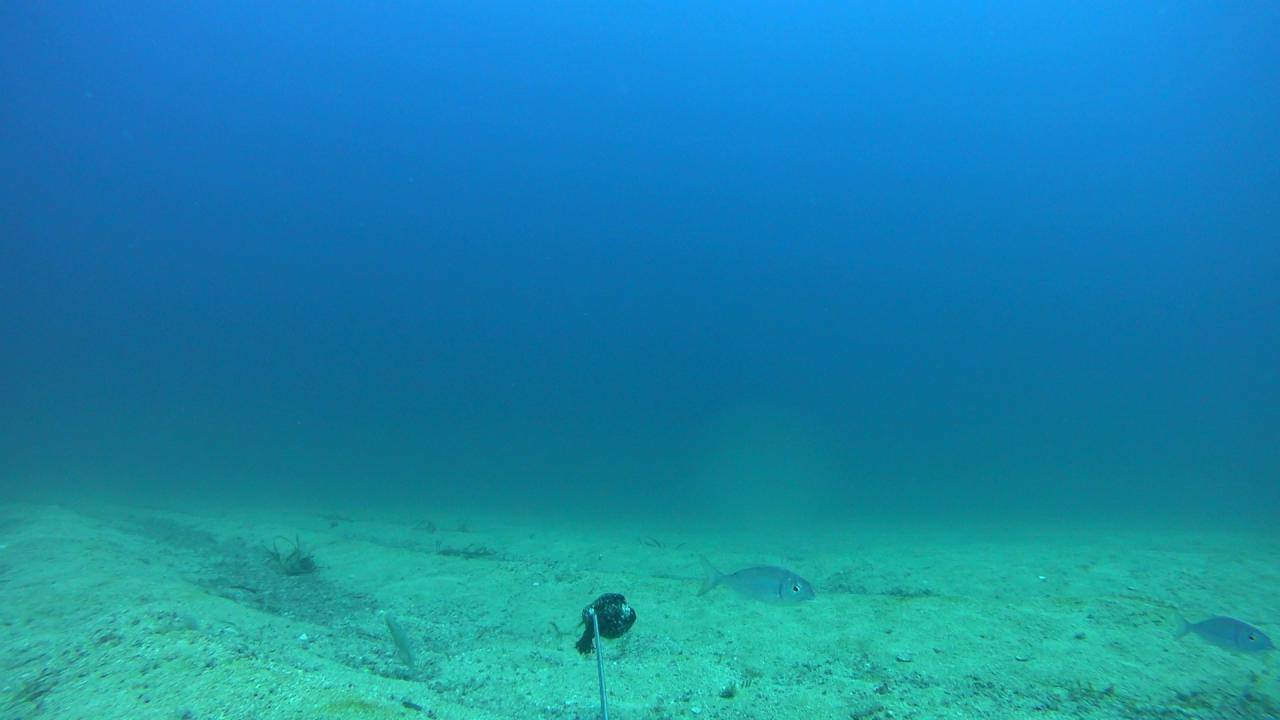pagellus: (696, 555, 814, 607), (1174, 610, 1274, 654)
raor: (384, 614, 417, 672)
